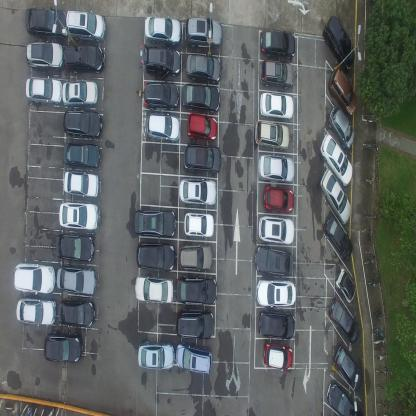car: (323, 14, 356, 72), (320, 132, 353, 187), (320, 169, 352, 225), (328, 295, 360, 345), (323, 210, 353, 263), (140, 43, 182, 77), (66, 9, 108, 43), (329, 66, 358, 115), (25, 6, 68, 39), (13, 262, 56, 295), (333, 344, 363, 390), (43, 330, 83, 364), (326, 379, 363, 415), (174, 307, 214, 339), (175, 274, 216, 305), (25, 41, 66, 72), (57, 263, 98, 294), (134, 208, 176, 238), (64, 44, 106, 74), (175, 341, 212, 375), (183, 142, 221, 175), (254, 244, 293, 276), (59, 200, 100, 230), (185, 17, 223, 49), (257, 308, 295, 340), (134, 240, 174, 270), (64, 109, 104, 139), (55, 231, 95, 261), (329, 104, 355, 150), (16, 295, 57, 324), (145, 14, 182, 46), (178, 175, 216, 206), (255, 278, 296, 306), (134, 272, 172, 302), (137, 340, 175, 370), (57, 297, 96, 326), (255, 119, 289, 151), (260, 28, 296, 58), (26, 76, 63, 105), (258, 154, 295, 183), (260, 58, 294, 89), (181, 84, 220, 111), (146, 114, 181, 144), (143, 81, 179, 110), (63, 79, 99, 108), (258, 215, 294, 244), (186, 53, 221, 82), (63, 142, 101, 168), (178, 242, 212, 270), (63, 170, 99, 196), (260, 92, 294, 119), (182, 210, 214, 238), (262, 185, 294, 213), (187, 112, 217, 141), (262, 341, 292, 370), (335, 266, 356, 304)
